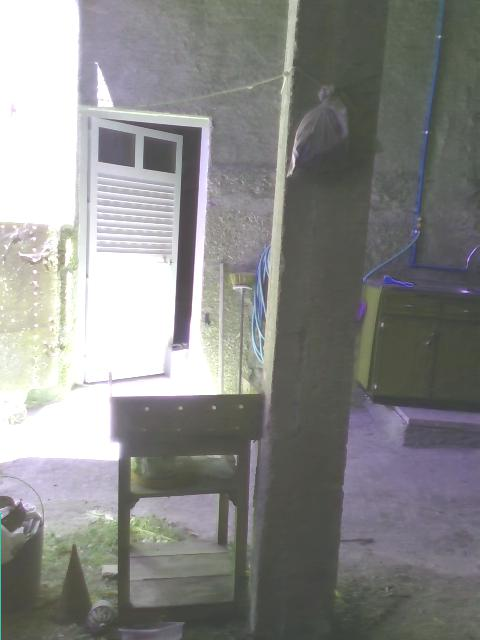semi_door: (74, 109, 210, 391)
